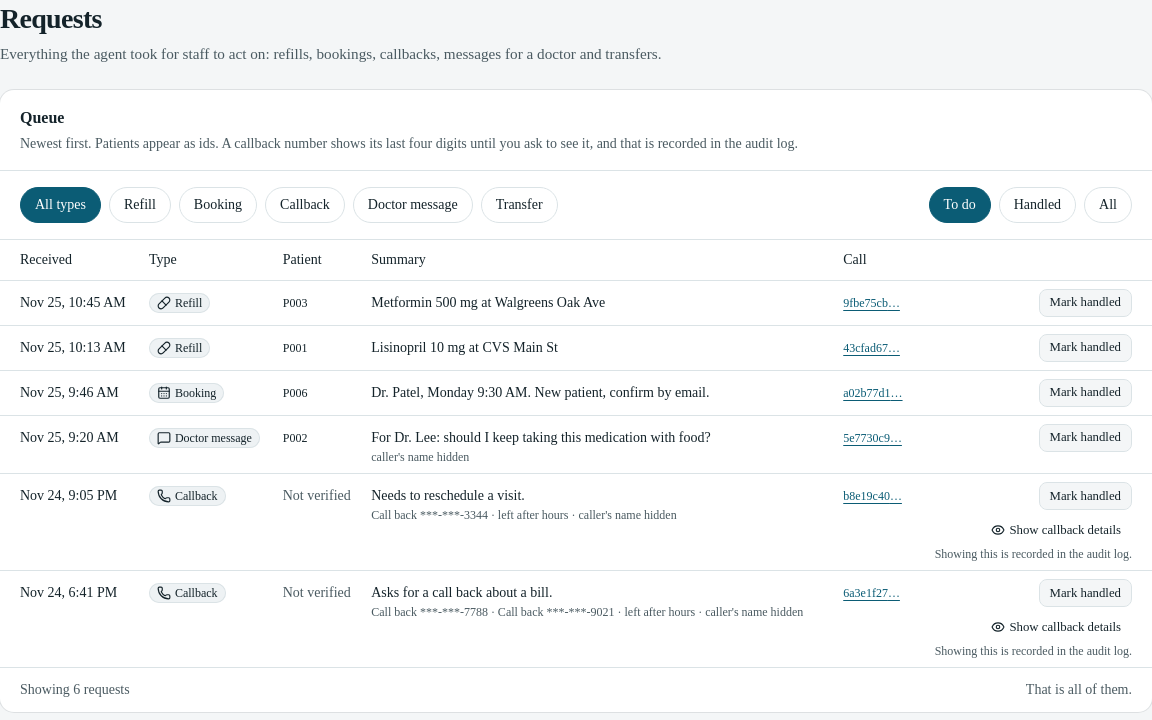
Test case: Mark handled › leaves the row as it was when the API refuses, and says so on the row
This screenshot has width=1152, height=720.
Click the button "Mark handled" in the row of "Nov 25, 10:45 AM": [1085, 303] box [1039,289,1132,317]
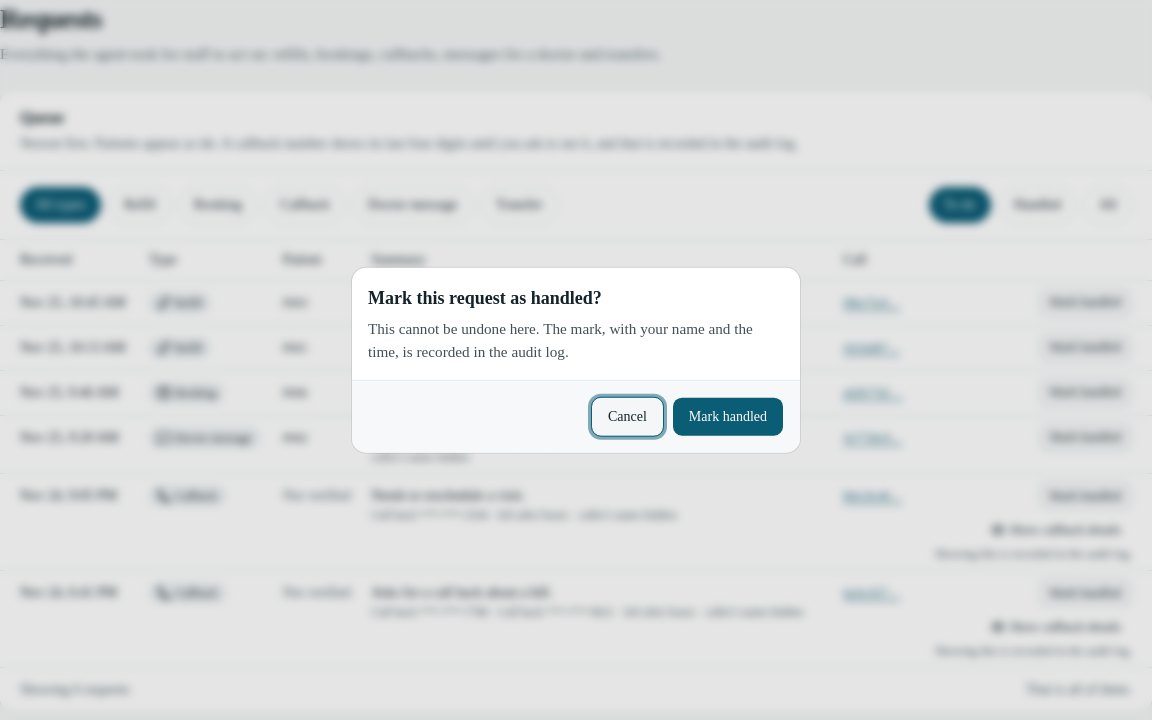
Click the button "Mark handled": [728, 416] box [672,396,784,436]
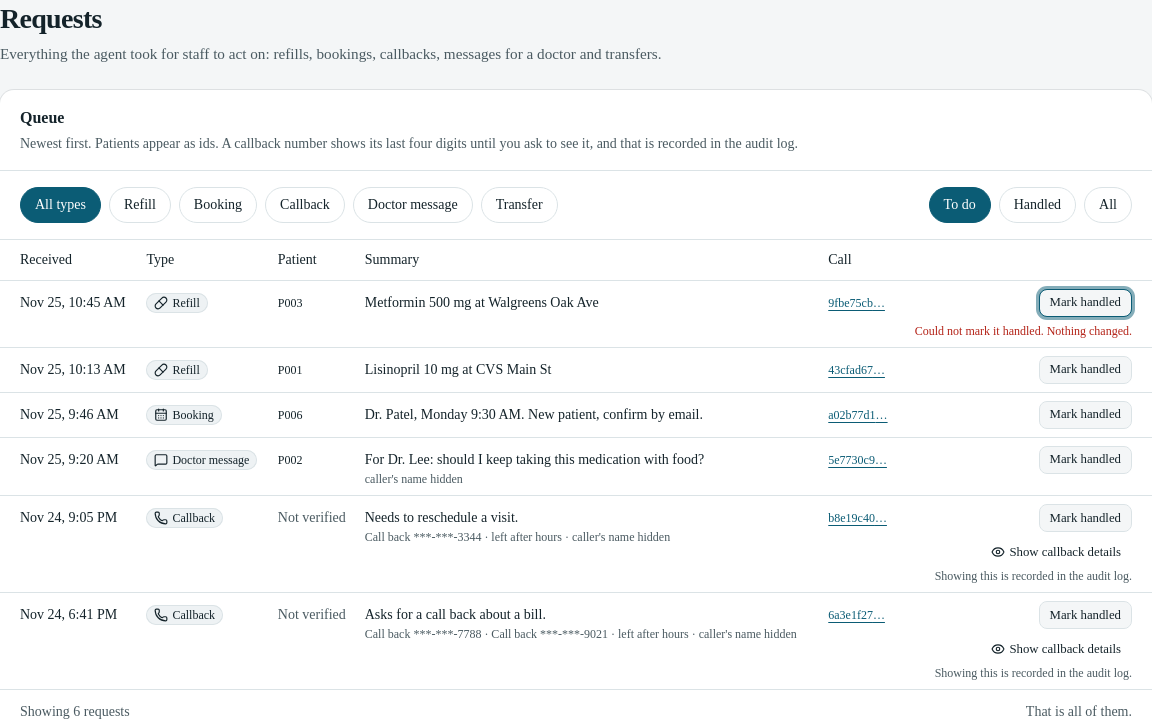
Expected: the button "Mark handled" in the row of "Nov 25, 10:45 AM" is shown, [1039,289,1132,317]
Now the dialog is gone
Now the text "Could not mark it handled. Nothing changed." is shown, box [915,323,1132,339]
